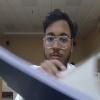notebook: (0, 42, 99, 99)
